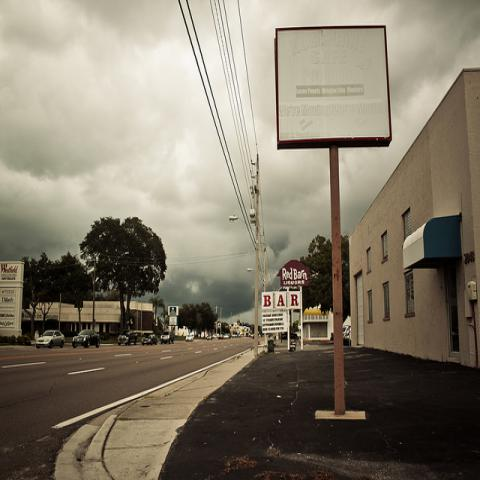car: (36, 331, 65, 349), (73, 329, 100, 348), (160, 330, 175, 345), (142, 334, 158, 345), (185, 336, 194, 342), (223, 333, 230, 340), (218, 333, 223, 340), (206, 336, 212, 341)
